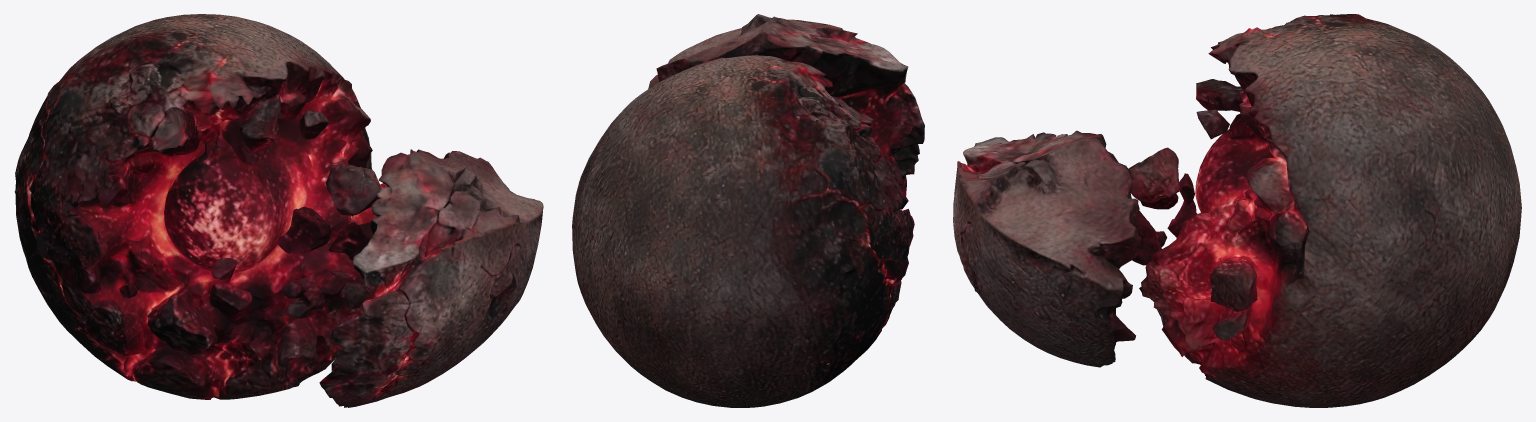
File: base_basic_shaded.fbx
3 views of the same model, side by side, from view 1: azimuth 30°, elevation 25°; view 2: azimuth 150°, elevation 25°; view 3: azimuth 270°, elevation 25° (orthographic). The views are drawn at different scales.
Visible parts, largest first — view 1: model; view 2: model; view 3: model.
Boxes of the visible parts, box(x1,y1,x2,y2) form: model: box(14, 14, 543, 407); model: box(572, 14, 924, 407); model: box(953, 14, 1521, 407).
Size of the model in its own units: 151 by 131 by 190.
